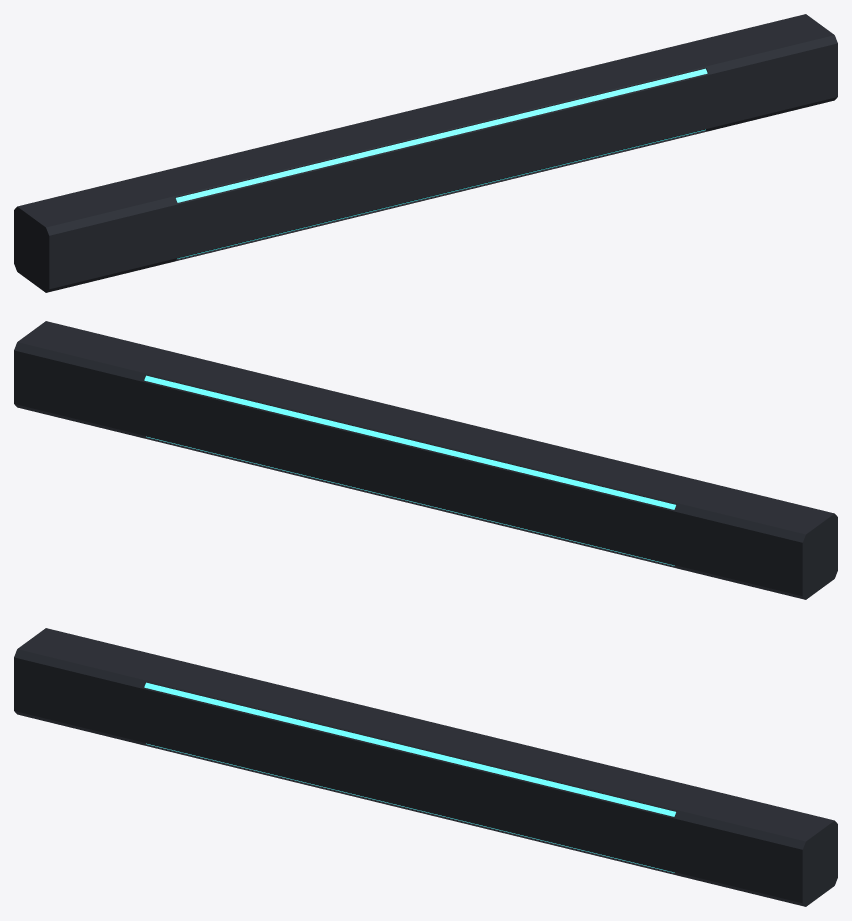
The model's file is SM_Cross_Beam_Brace.glb.
The picture shows the model from 3 angles, top to bottom: view 1: azimuth 30°, elevation 25°; view 2: azimuth 150°, elevation 25°; view 3: azimuth 330°, elevation 25°; orthographic projection.
Parts seen in each view (by area): view 1: SM_Cross_Beam_Brace; view 2: SM_Cross_Beam_Brace; view 3: SM_Cross_Beam_Brace.
Boxes of the visible parts, bbox=[...] form: SM_Cross_Beam_Brace: bbox=[14, 14, 837, 292]; SM_Cross_Beam_Brace: bbox=[14, 321, 837, 599]; SM_Cross_Beam_Brace: bbox=[14, 628, 837, 906].
Size of the model in its own units: 4 by 0.3169 by 0.3092.
